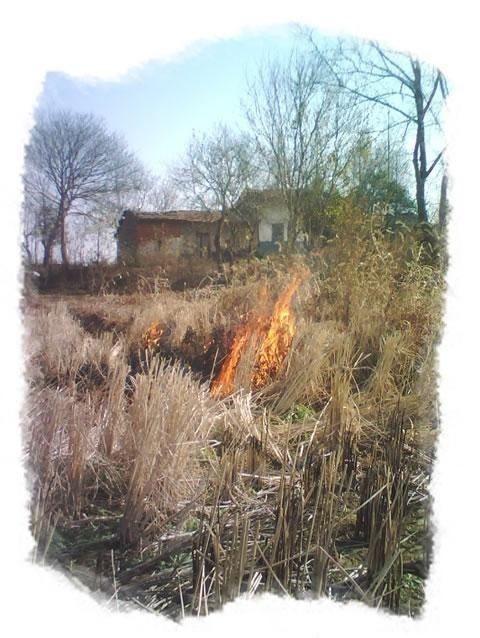fire: (207, 270, 304, 399), (139, 317, 166, 348)
